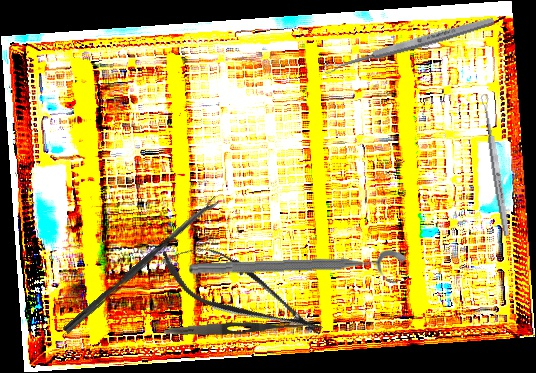Dressing Forceps: (163, 318, 309, 338)
Fixation Ring: (188, 249, 408, 293)
Micro Scissor: (150, 228, 334, 356)
Surgical Spoon: (62, 196, 221, 335), (322, 14, 496, 76), (479, 93, 512, 237)
